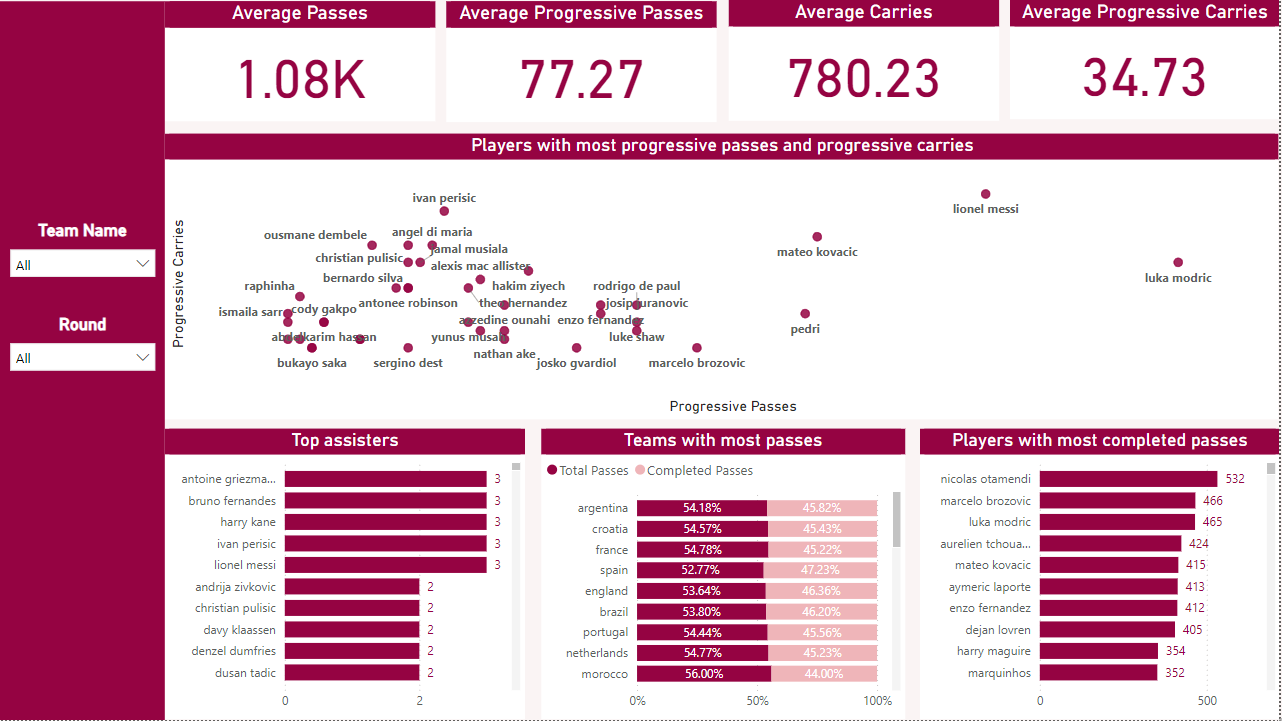

This screenshot's page, from the dashboard's own definition file:
{"tool":"powerbi","page":{"name":"Passing and Carrying","canvas":[1280,720],"ordinal":3},"visuals":[{"type":"shape","box":[0,0.8,165,719.2],"z":0},{"type":"slicer","title":"Team Name","fields":{"Values":["Dim_team.team_name"]},"box":[0,220,165.3,80],"z":1000},{"type":"slicer","title":"Round","fields":{"Values":["Dim_match.round"]},"box":[0,313.3,165.3,80],"z":2000},{"type":"card","title":"Average Passes","fields":{"Values":["DAX measures.Average Passes Per Game"]},"box":[165.3,1.3,270,120],"z":3000},{"type":"card","title":"Average Carries","fields":{"Values":["DAX measures.Average Carries"]},"box":[728.4,0,270.2,120.6],"z":4000},{"type":"card","title":"Average Progressive Carries","fields":{"Values":["DAX measures.Average Progressive Carries"]},"box":[1010,0,270,119.4],"z":5000},{"type":"card","title":"Average Progressive Passes","fields":{"Values":["DAX measures.Average Progressive Passes"]},"box":[446.7,1.2,270.2,120.6],"z":7000},{"type":"scatterChart","title":"Players with most progressive passes and progressive carries","fields":{"Category":["Dim_player.player_name"],"X":["DAX measures.Progressive Passes"],"Y":["DAX measures.Progressive Carries"]},"box":[165.3,133.3,1114.7,285.3],"z":8000},{"type":"hundredPercentStackedBarChart","title":"Teams with most  passes","fields":{"Category":["Dim_team.team_name"],"Y":["DAX measures.Total Passes","DAX measures.Completed Passes"]},"box":[540.7,429.3,364,290.7],"z":9000},{"type":"barChart","title":"Top assisters","fields":{"Category":["Dim_player.player_name"],"Y":["DAX measures.Assists"]},"box":[165.3,429.3,360,290.7],"z":10000},{"type":"barChart","title":"Players with most completed passes","fields":{"Category":["Dim_player.player_name"],"Y":["DAX measures.Completed Passes"]},"box":[920,429.3,360,290.7],"z":11000}]}

Visuals, with their boxes in screenshot pixels (x1, y1, x2, y2), scaled from the page's 1280x720 canvas onto the 1282x721 screenshot:
shape: 0 1 165 720
"Team Name" slicer: 0 220 166 300
"Round" slicer: 0 314 166 394
"Average Passes" card: 166 1 436 121
"Average Carries" card: 730 0 1000 121
"Average Progressive Carries" card: 1012 0 1281 120
"Average Progressive Passes" card: 447 1 718 122
"Players with most progressive passes and progressive carries" scatterChart: 166 133 1281 419
"Teams with most  passes" hundredPercentStackedBarChart: 542 430 906 720
"Top assisters" barChart: 166 430 526 720
"Players with most completed passes" barChart: 921 430 1281 720
